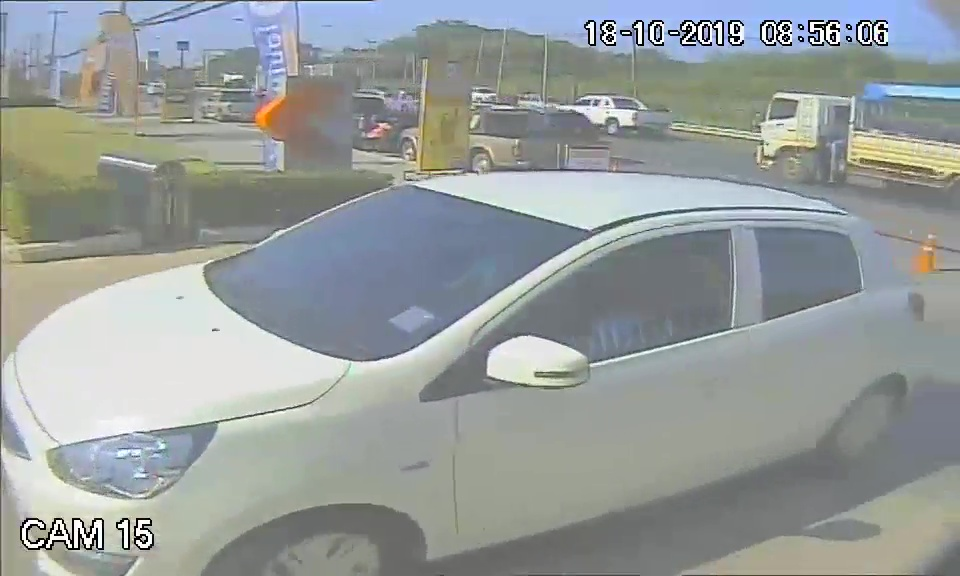sedan: (1, 174, 928, 557)
